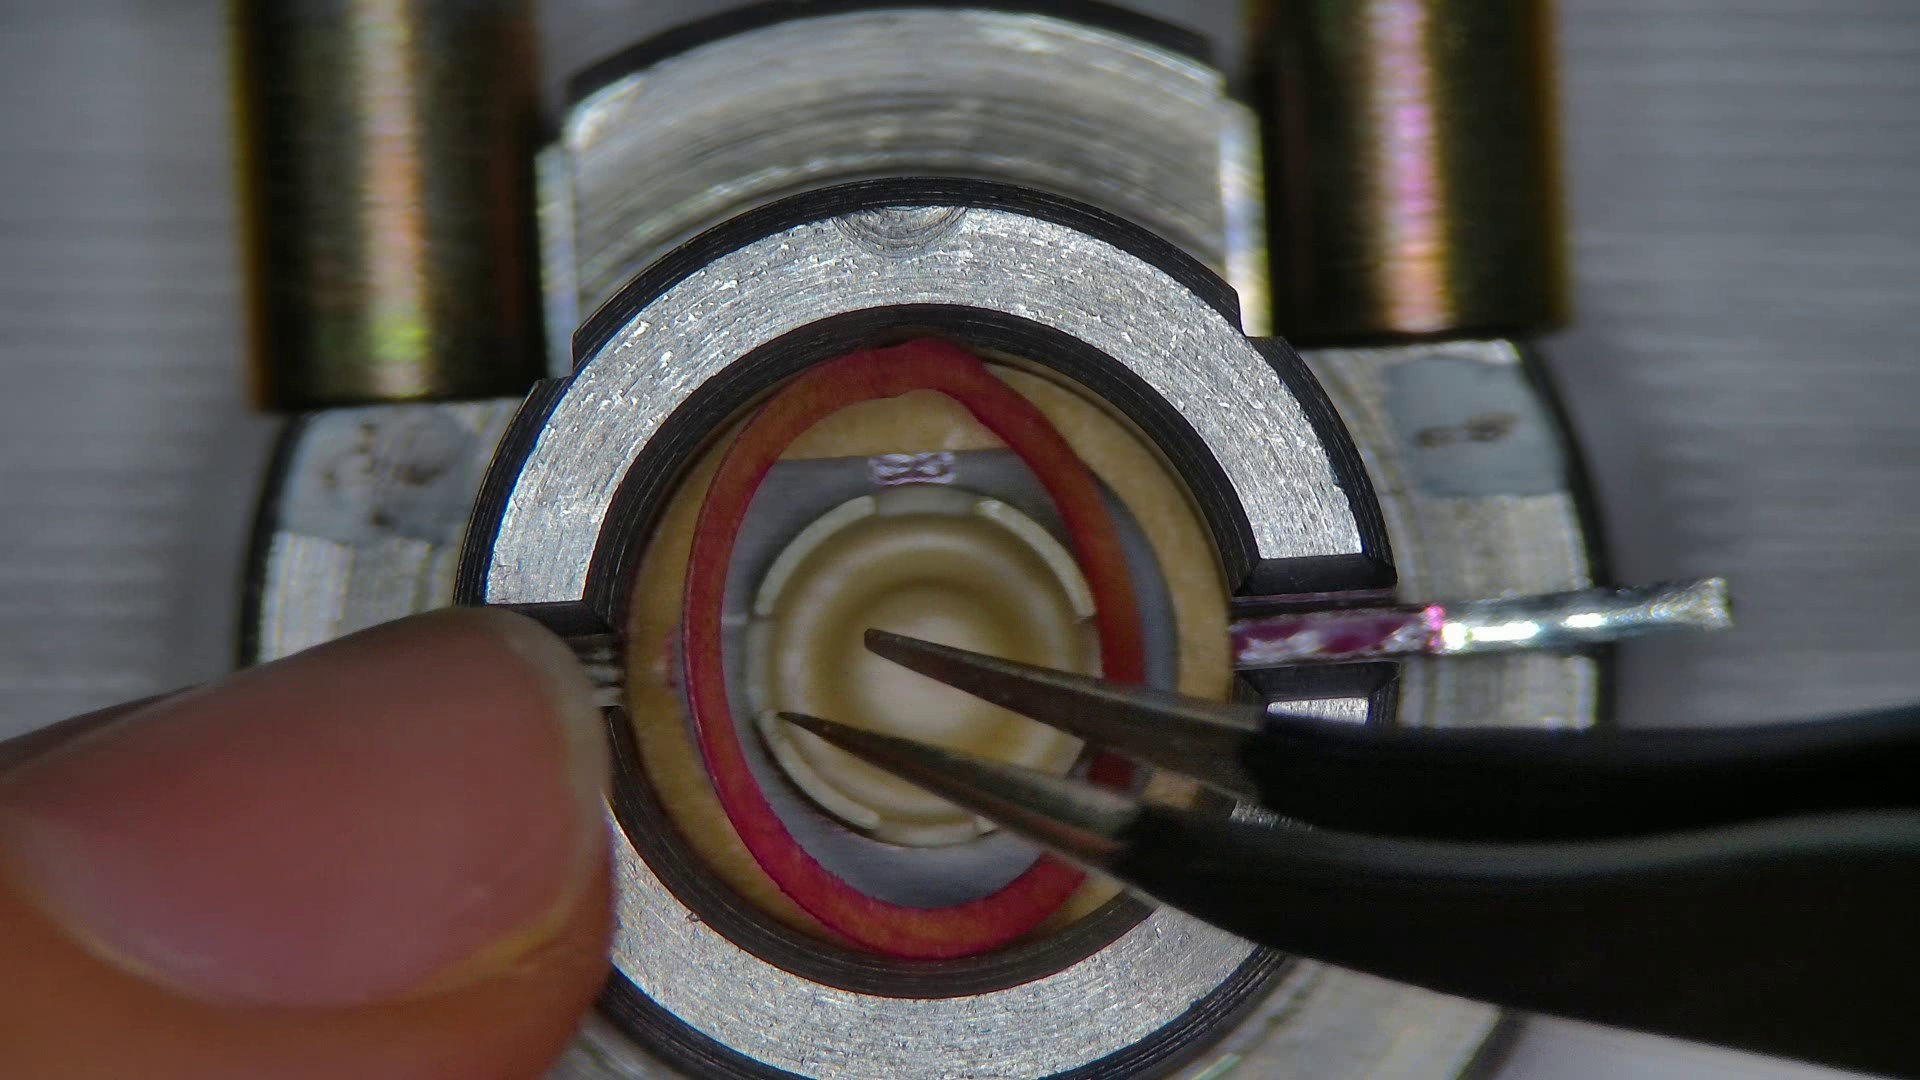GreyOring: (680, 338, 1138, 955), (1091, 757, 1129, 790)
YellowOring: (719, 454, 1073, 905), (1100, 484, 1182, 694), (670, 641, 703, 754)
redOring: (630, 410, 810, 928), (998, 367, 1233, 698), (782, 392, 997, 459), (1056, 874, 1113, 924), (1146, 770, 1195, 810)
